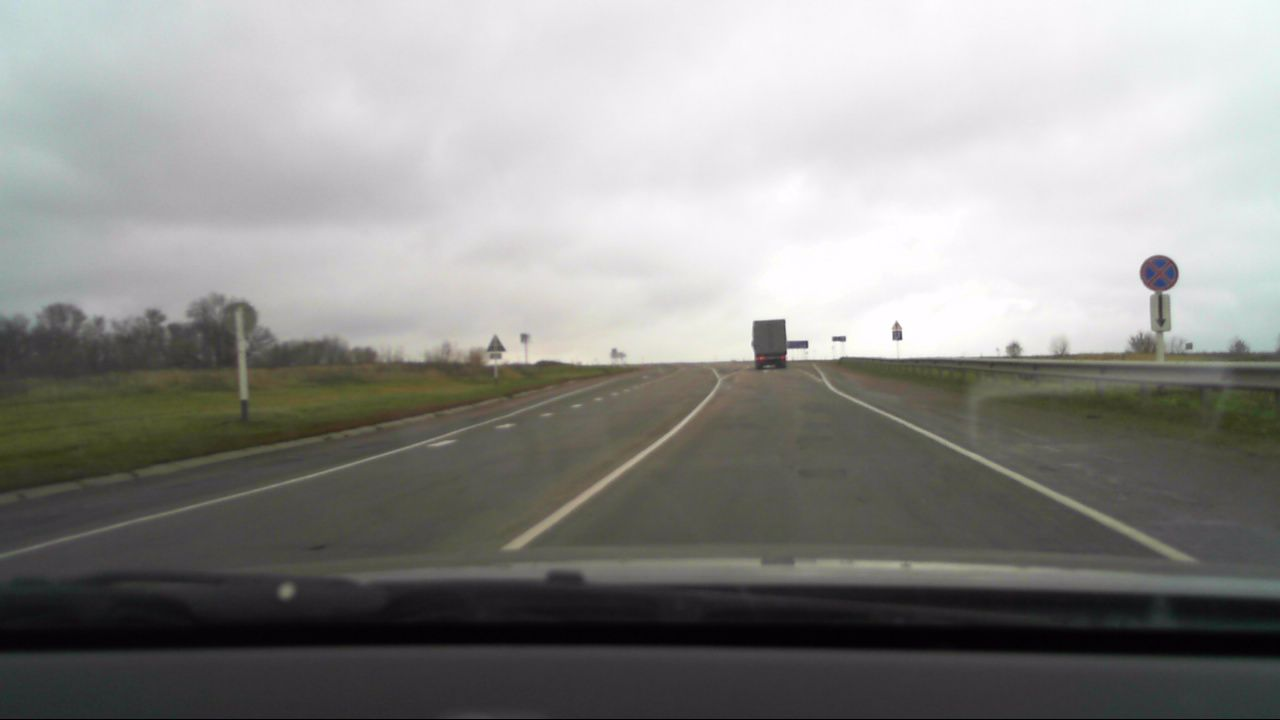No Parking: (1139, 252, 1181, 292)
